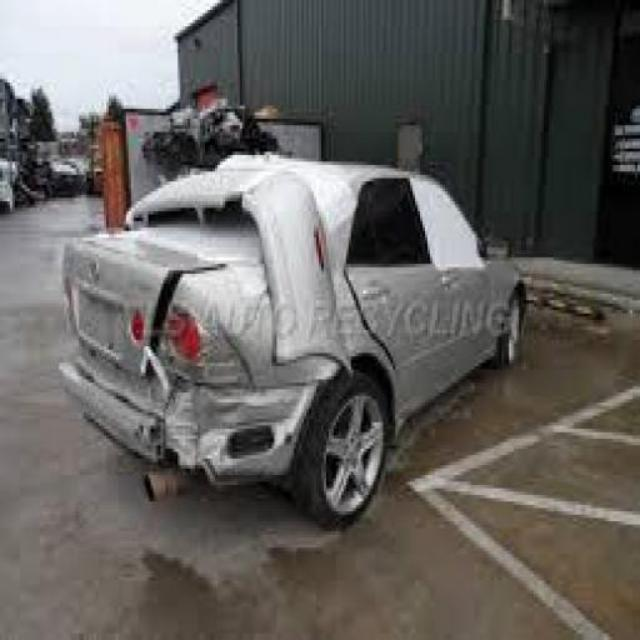crash: (58, 160, 361, 480)
